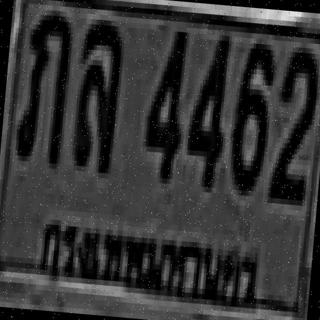A32: (12, 8, 72, 164)
A36: (71, 16, 124, 166)
N02: (268, 41, 318, 201)
N04: (182, 25, 230, 185), (140, 24, 188, 179)
N06: (226, 37, 274, 192)
P04: (33, 208, 267, 313)
